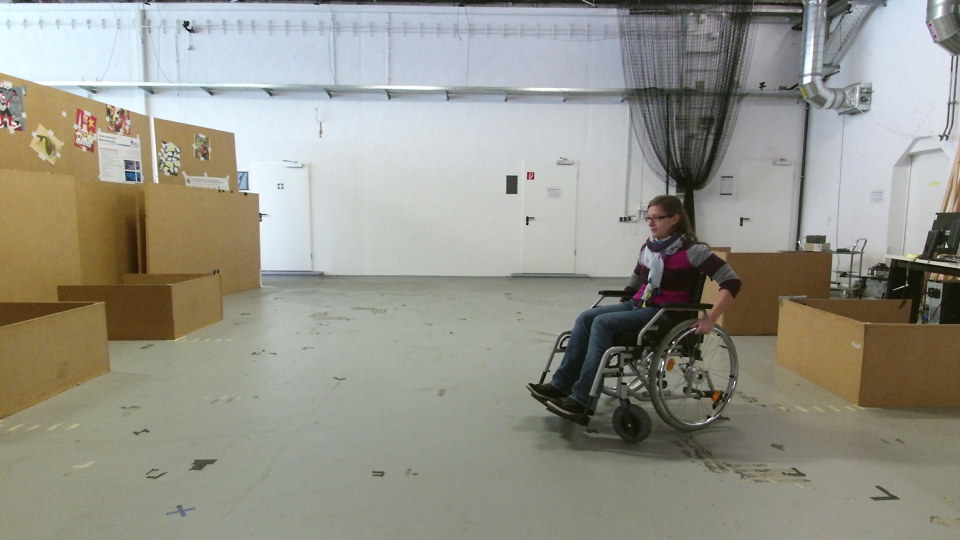wheelchair: (521, 194, 746, 446)
